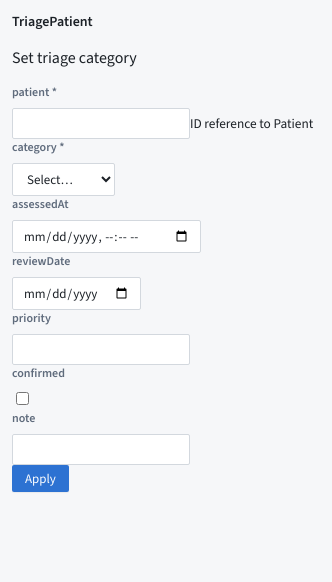
Scenario: submitting › surfaces a thrown request error instead of looking like success
In the field labelled "patient *": (101, 124) [12, 108, 190, 139], type "p-1"
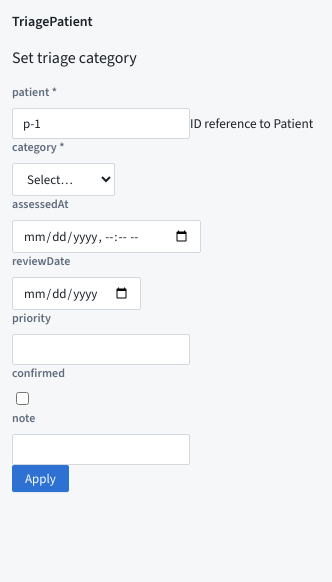
Select "URGENT" in the dropdown labelled "category *": (64, 180) [12, 163, 115, 196]
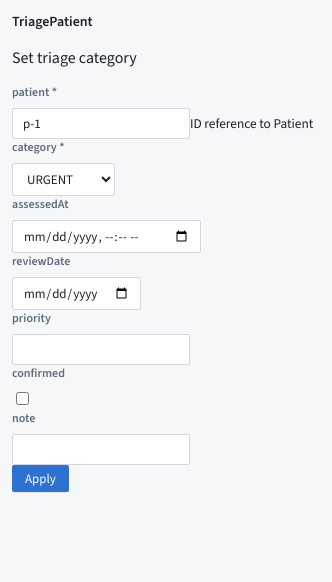
Click the button "Apply": (40, 479) [12, 465, 69, 492]
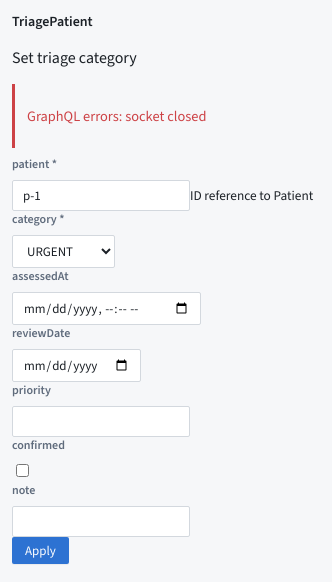
Now the text "GraphQL errors: socket closed" is shown, box [27, 107, 206, 126]
